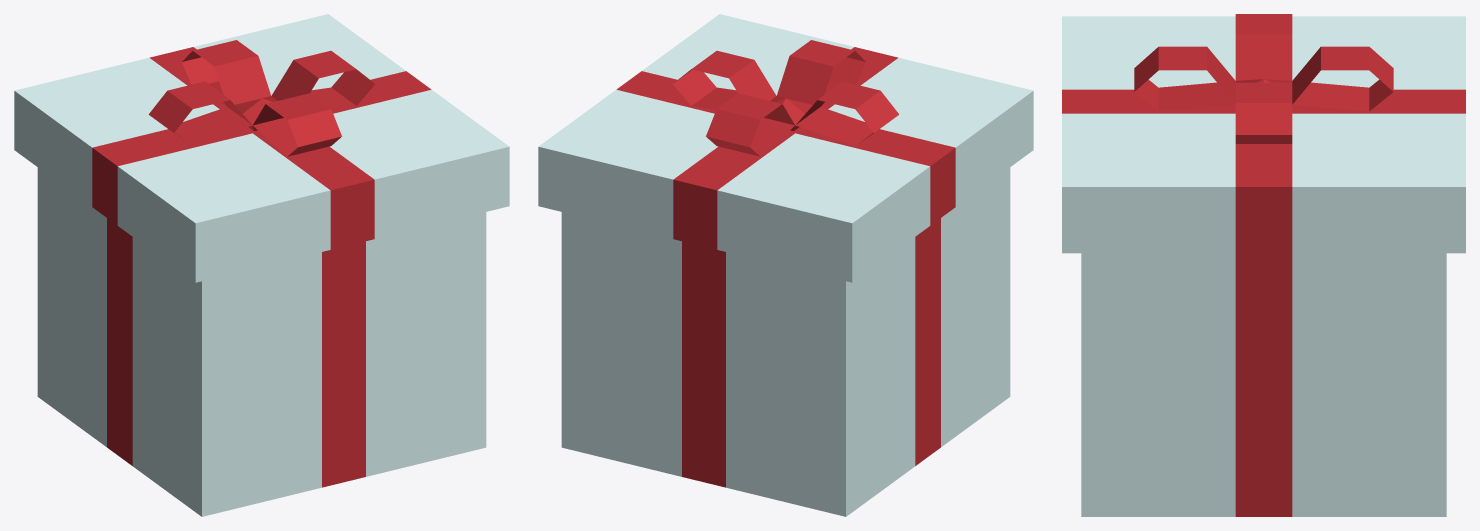
The model's file is present-box.glb.
3 views of the same model, side by side, from view 1: azimuth 30°, elevation 25°; view 2: azimuth 150°, elevation 25°; view 3: azimuth 270°, elevation 25° (orthographic). The views are drawn at different scales.
Visible parts, largest first — view 1: present-box-base, present-box-top; view 2: present-box-base, present-box-top; view 3: present-box-base, present-box-top.
Boxes of the visible parts, <box> form: present-box-base: <box>37,167,486,516</box>; present-box-top: <box>14,14,509,282</box>; present-box-base: <box>561,167,1010,516</box>; present-box-top: <box>538,14,1033,282</box>; present-box-base: <box>1081,253,1446,516</box>; present-box-top: <box>1062,14,1465,253</box>.
Size of the model in its own units: 0.5523 by 0.5753 by 0.5523.
1 material, 1 textured.
